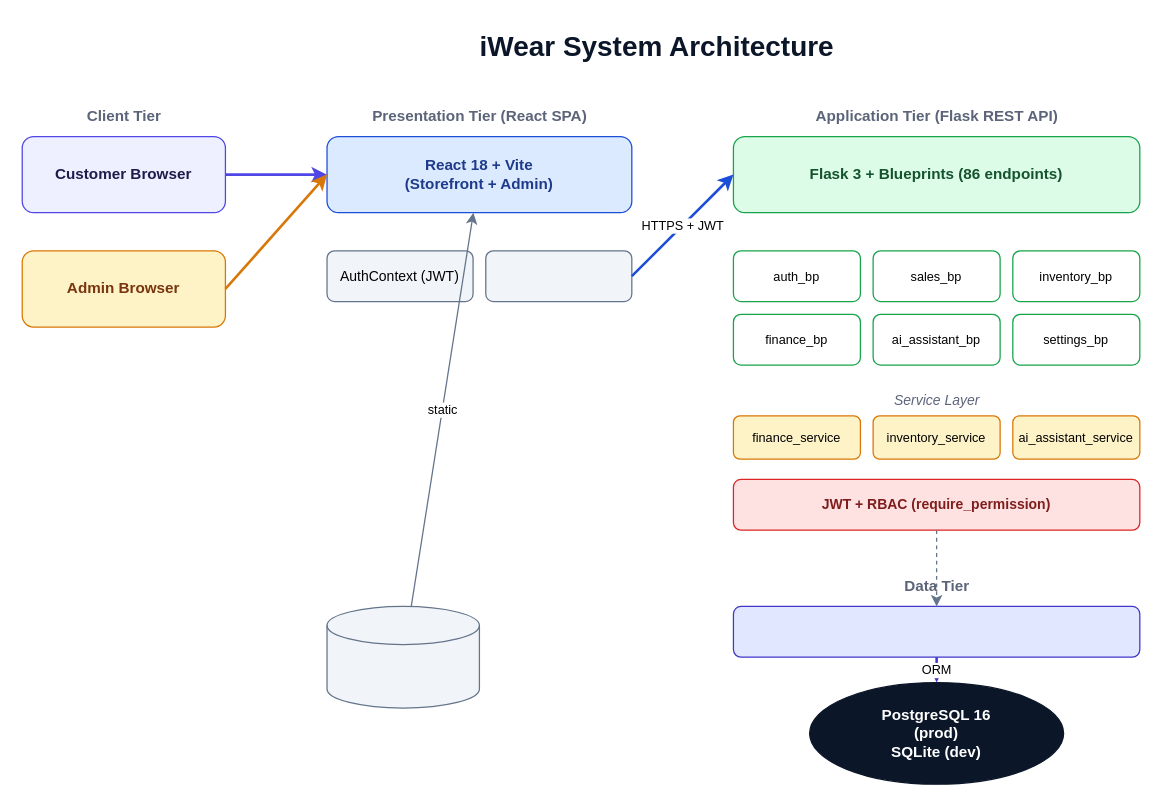
This 1162x806 diagram has some shape labels left out. Each missing label, with the centre of its shape:
API Client (fetch): the point at 558,276
File Storage (/uploads): the point at 402,656
SQLAlchemy 2 + Alembic (40 tables): the point at 936,631
